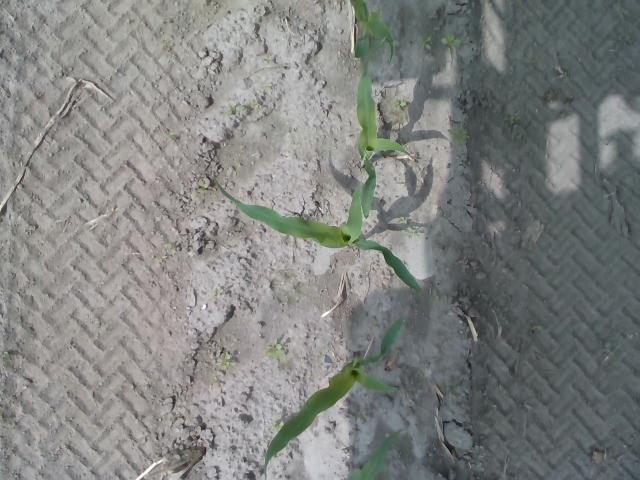Maize: (214, 179, 422, 293), (263, 316, 406, 474), (356, 61, 423, 220), (348, 428, 404, 480), (348, 0, 395, 61)
Weeds: (222, 103, 268, 115), (440, 32, 462, 48), (264, 342, 284, 359), (218, 352, 236, 370), (452, 129, 468, 145), (419, 36, 434, 50), (272, 418, 286, 432), (394, 98, 406, 112), (198, 181, 208, 192), (264, 56, 275, 64)
